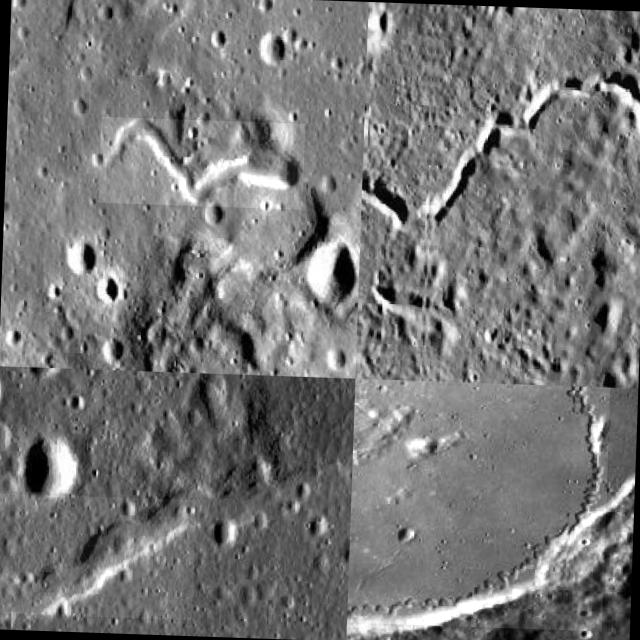rille: (346, 378, 610, 631), (359, 63, 640, 255), (0, 493, 195, 620), (98, 117, 305, 210)
